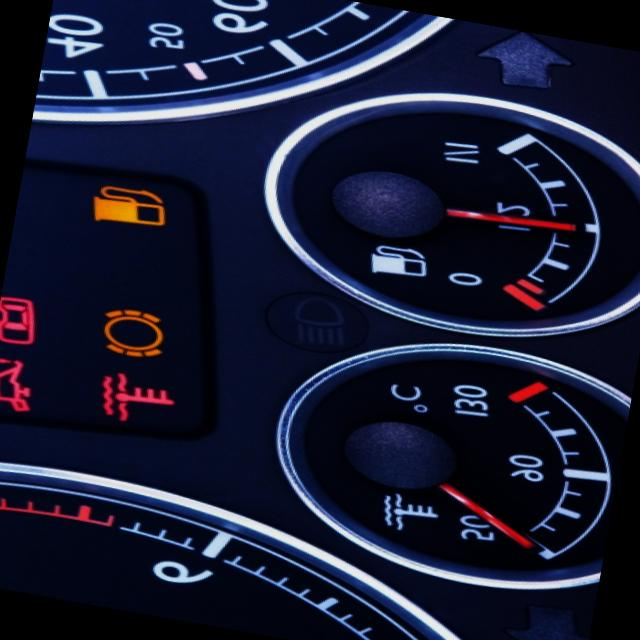kontrolka: (84, 363, 189, 437), (76, 174, 179, 238), (90, 298, 174, 365), (0, 351, 46, 420)
